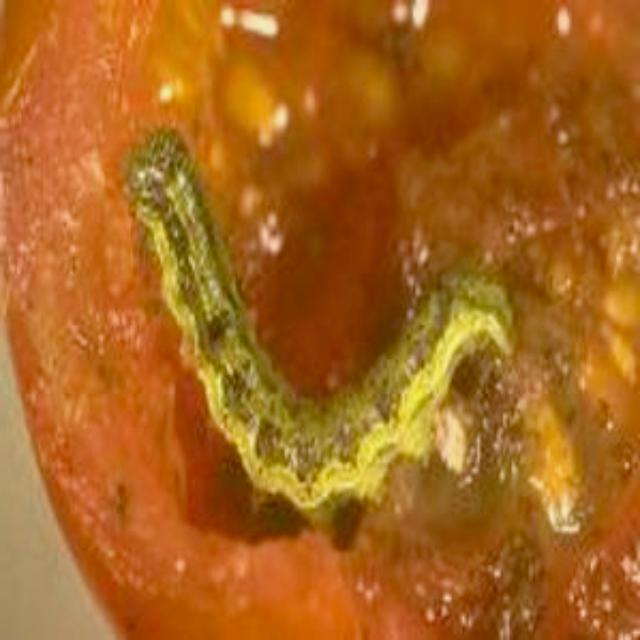Cotton bollworm: (113, 108, 532, 550)
